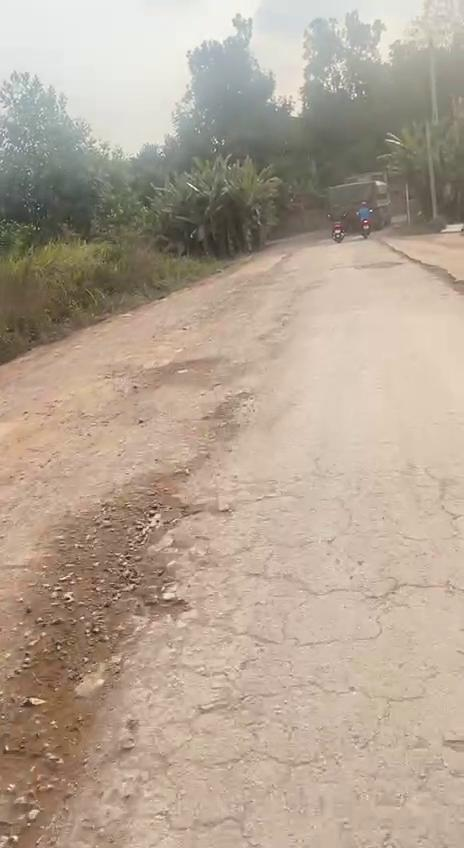pothole: (113, 491, 199, 632)
